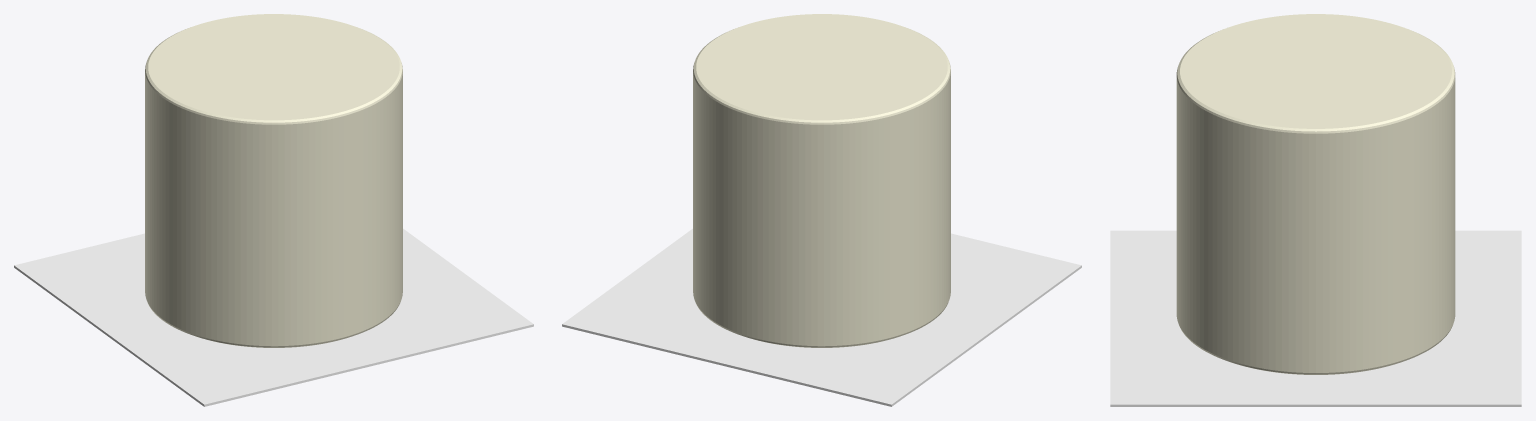
Rendered from cake_4in_layers3_v26.glb.
The picture shows the model from 3 angles, left to right: view 1: azimuth 30°, elevation 25°; view 2: azimuth 150°, elevation 25°; view 3: azimuth 270°, elevation 25°; orthographic projection. The views are drawn at different scales.
Visible parts, largest first — view 1: Cake, Board; view 2: Cake, Board; view 3: Cake, Board.
Boxes of the visible parts, <box> form: Cake: <box>145,14,402,347</box>; Board: <box>14,228,533,406</box>; Cake: <box>693,14,950,347</box>; Board: <box>562,228,1081,406</box>; Cake: <box>1176,14,1455,374</box>; Board: <box>1110,230,1521,406</box>.
Bounding box in the file's own units: 0.15 × 0.1 × 0.15.
